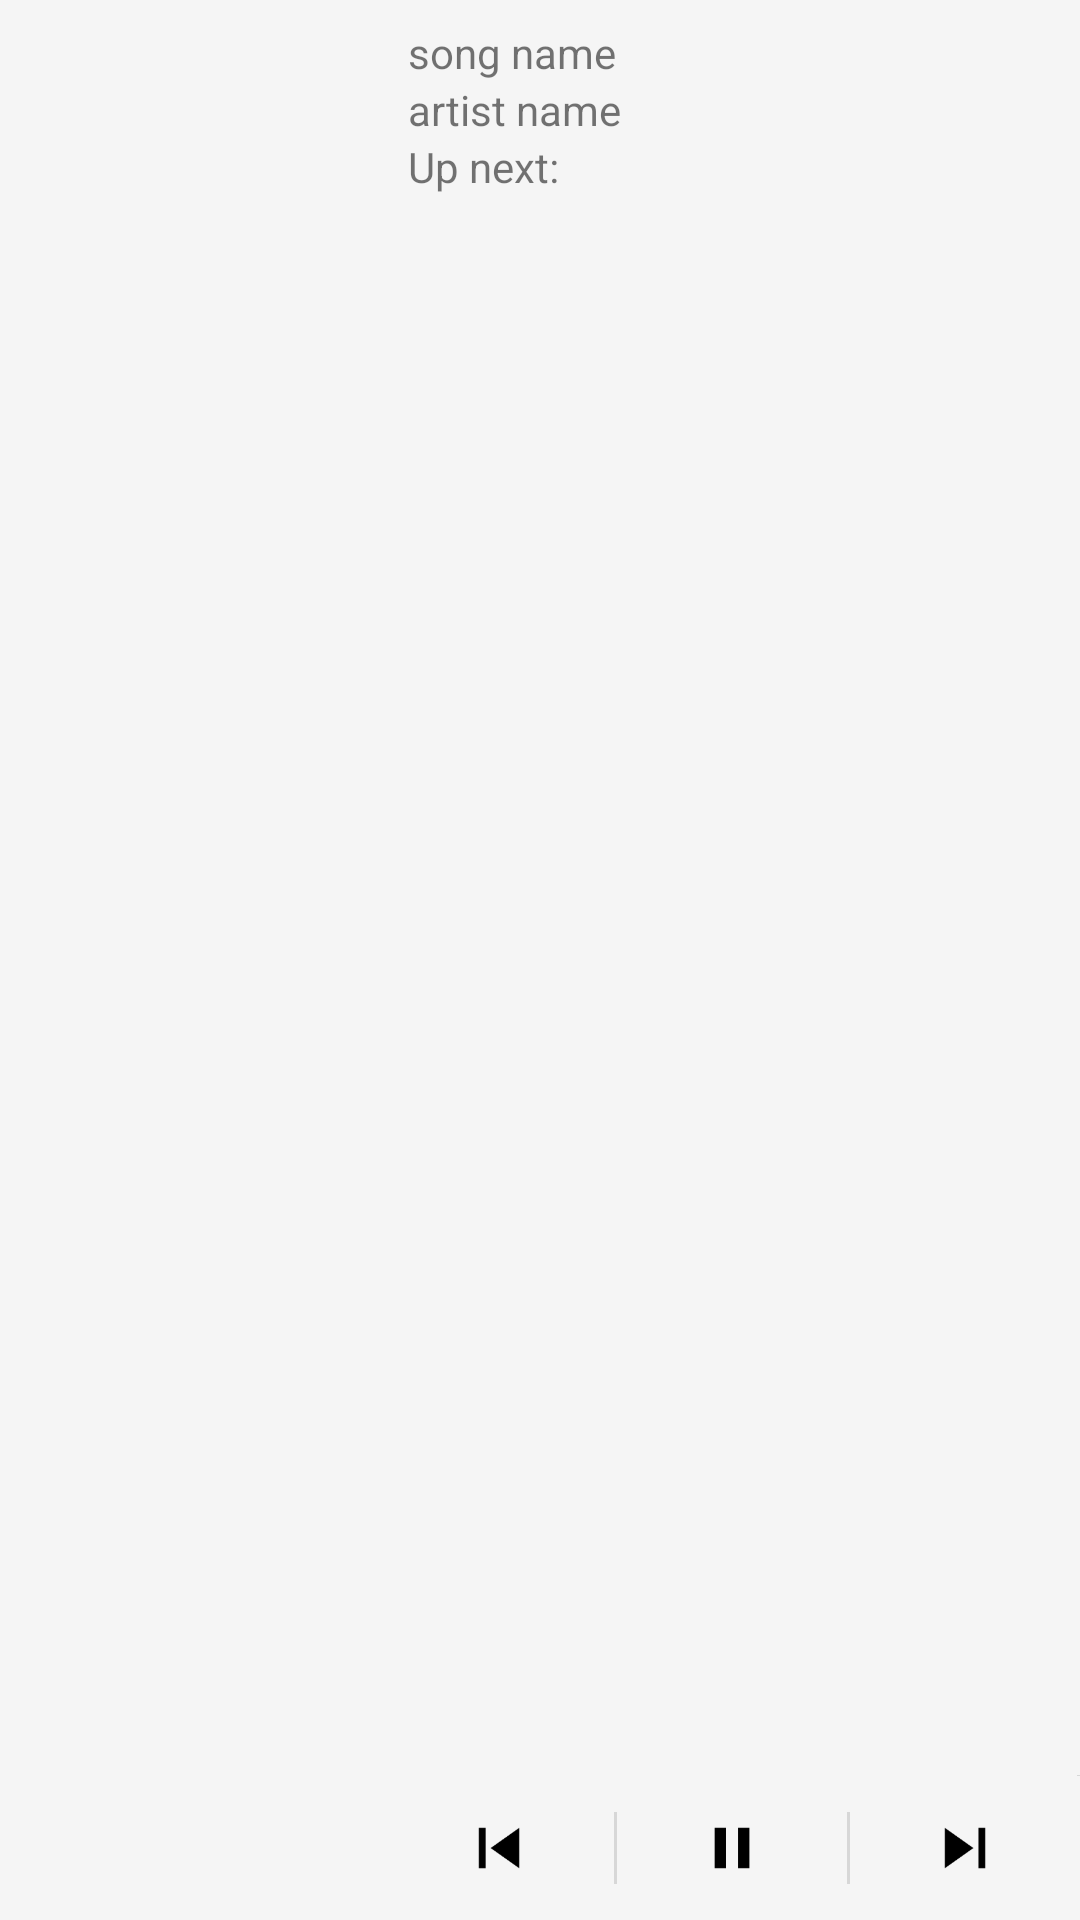

Point at icon controls on the screen. Image size 1080px×1920px, points as (x=x, y=y).
pauseblack: (x=732, y=1848)
prevblack: (x=499, y=1848)
skipblack: (x=965, y=1848)
